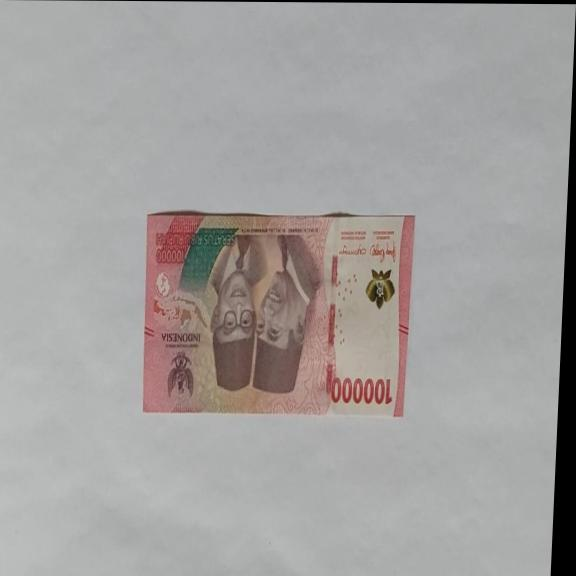Kertas: (138, 209, 415, 417), (329, 374, 394, 406)
